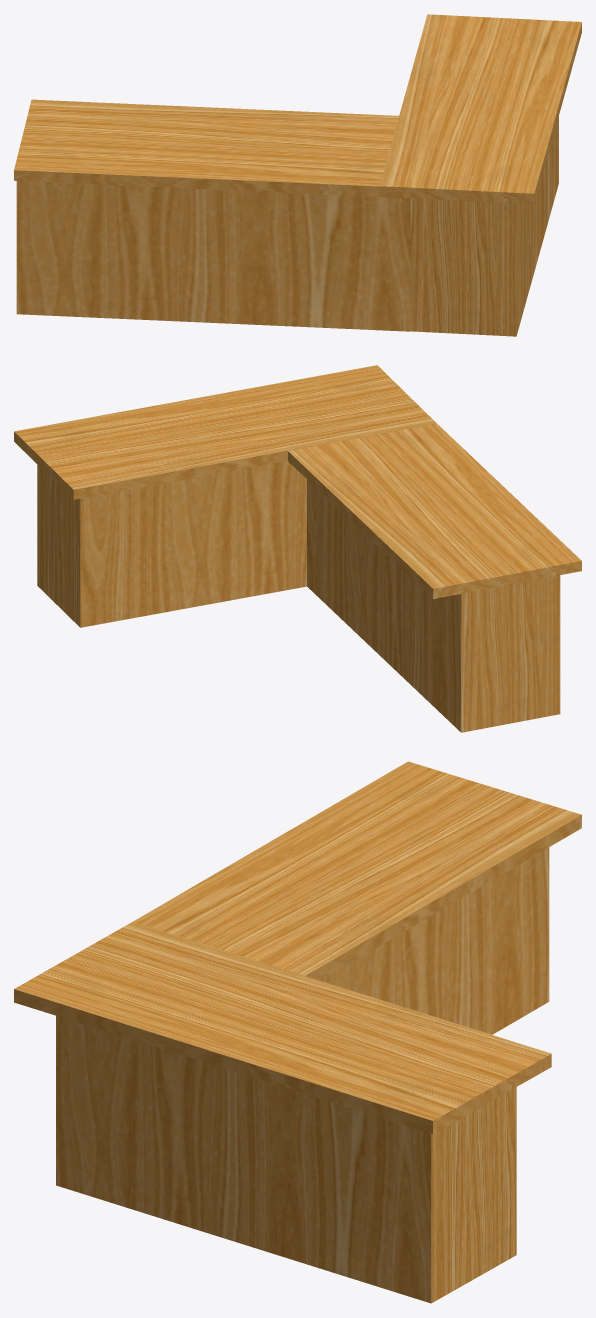
File: desk.fbx
The picture shows the model from 3 angles, top to bottom: view 1: azimuth 30°, elevation 25°; view 2: azimuth 150°, elevation 25°; view 3: azimuth 270°, elevation 25°; orthographic projection. The views are drawn at different scales.
Parts seen in each view (by area): view 1: Cube.004, Cube.002; view 2: Cube.004, Cube.002; view 3: Cube.004, Cube.002.
Boxes of the visible parts, left/top/right/bottom form: Cube.004: left=16, top=116, right=558, bottom=336; Cube.002: left=14, top=14, right=581, bottom=204; Cube.004: left=37, top=461, right=560, bottom=732; Cube.002: left=14, top=365, right=581, bottom=598; Cube.004: left=56, top=847, right=549, bottom=1303; Cube.002: left=14, top=761, right=581, bottom=1134.
Size of the model in its own units: 832 by 213 by 555.
